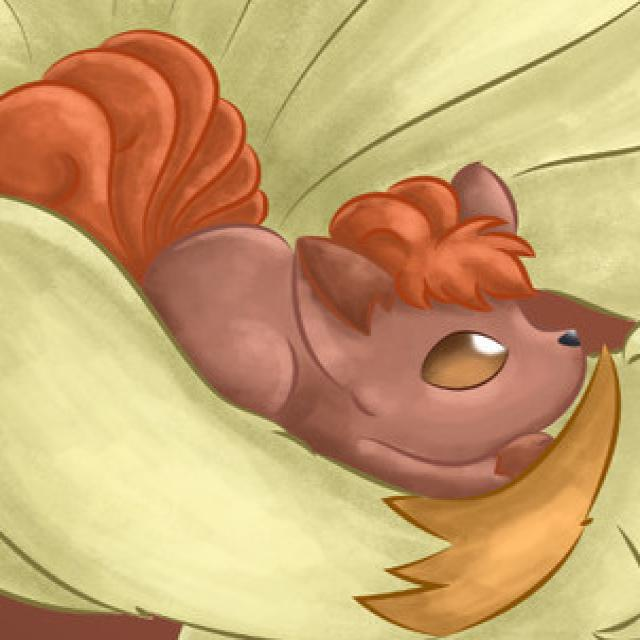Vulpix: (49, 128, 632, 500)
